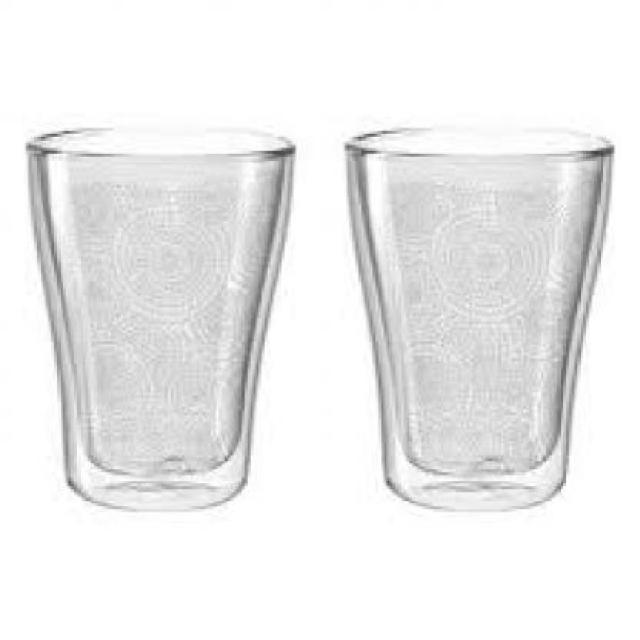kaca: (23, 122, 291, 509), (342, 125, 610, 506)
